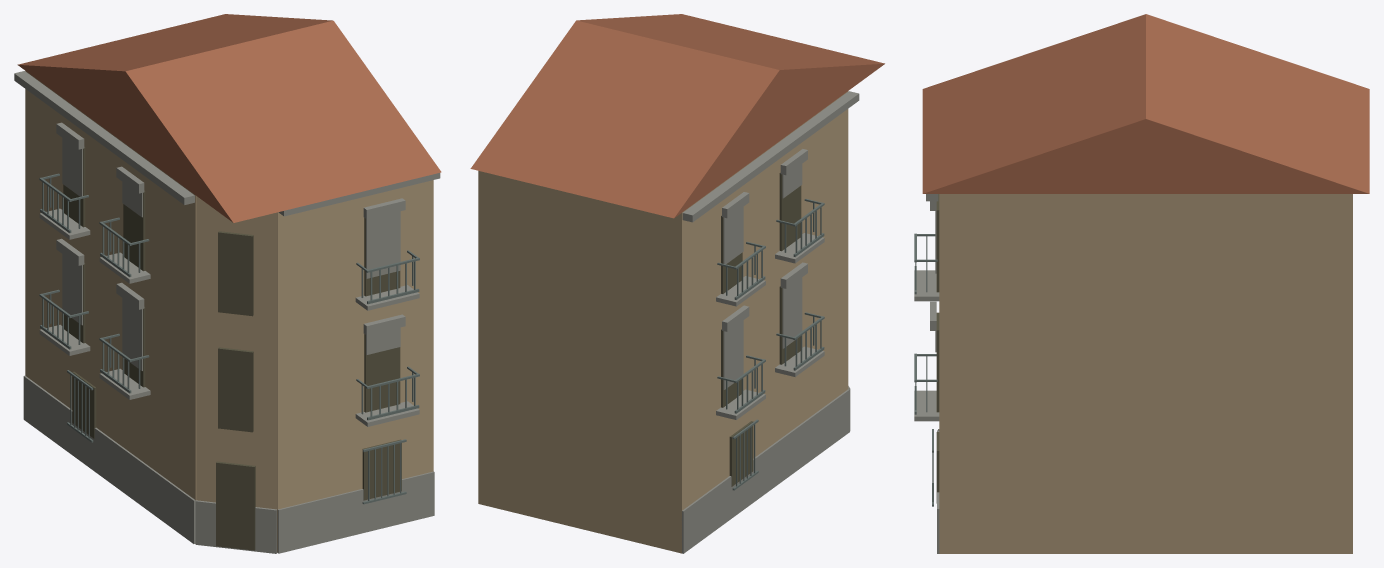
The model's file is SM_Esquina_v1_TresPlantas_LOD0.fbx.
3 renders of one model, left to right at view 1: azimuth 30°, elevation 25°; view 2: azimuth 150°, elevation 25°; view 3: azimuth 270°, elevation 25°, orthographic. The views are drawn at different scales.
Visible parts, largest first — view 1: SM_pueblo_valenciano_v1_LOD0; view 2: SM_pueblo_valenciano_v1_LOD0; view 3: SM_pueblo_valenciano_v1_LOD0.
Boxes of the visible parts, x1,y1,x2,y2 form: SM_pueblo_valenciano_v1_LOD0: (14,14,441,553); SM_pueblo_valenciano_v1_LOD0: (470,14,884,553); SM_pueblo_valenciano_v1_LOD0: (914,14,1369,553).
Bounding box in the file's own units: 6.6 × 11.6 × 11.
